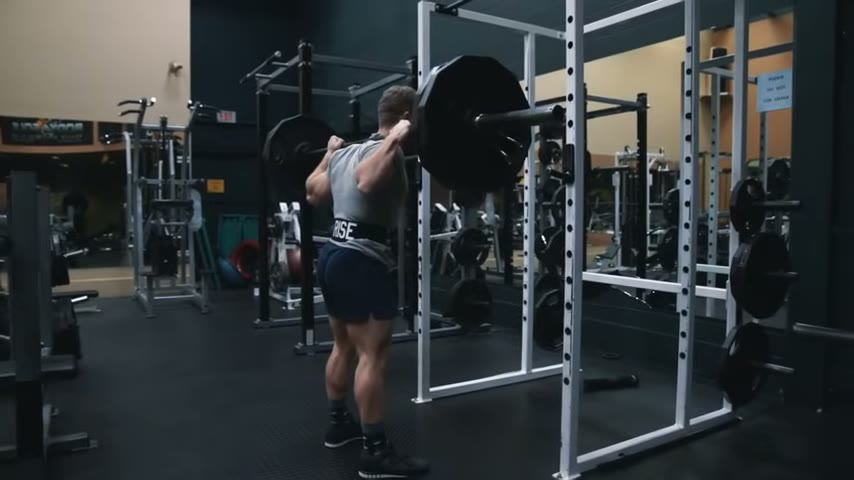barbell_plate_side: (530, 19, 645, 178)
